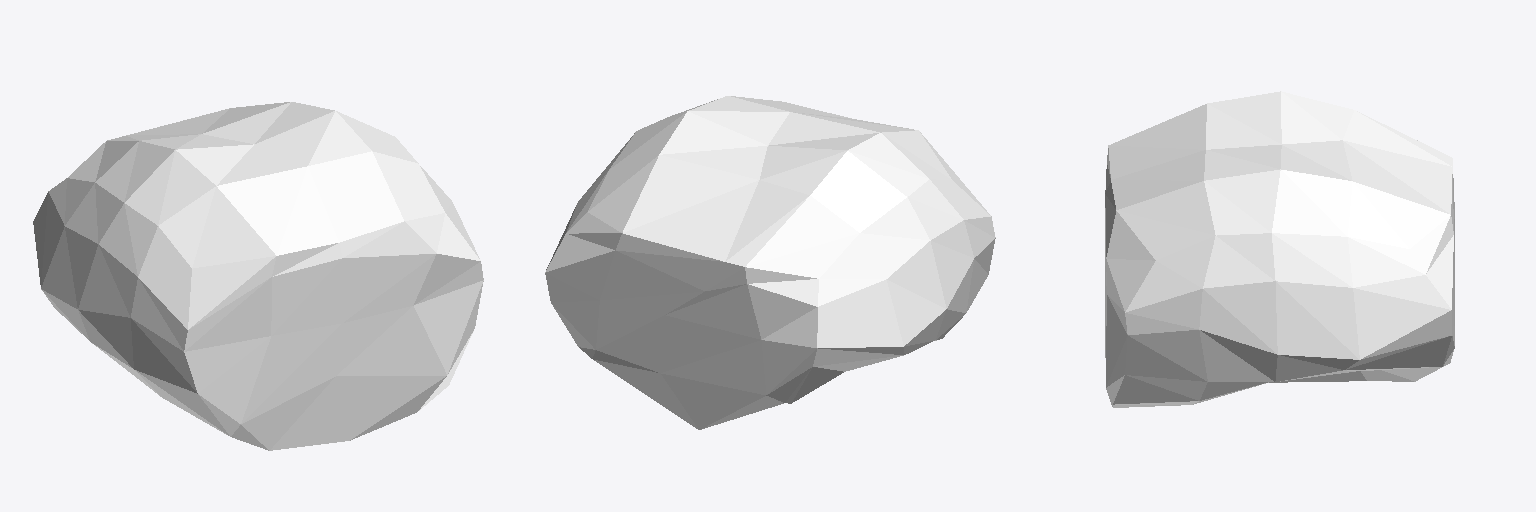
File: papermesh.obj
The picture shows the model from 3 angles: view 1: azimuth 30°, elevation 25°; view 2: azimuth 150°, elevation 25°; view 3: azimuth 270°, elevation 25°; orthographic projection.
Parts seen in each view (by area): view 1: grp1; view 2: grp1; view 3: grp1.
Part boxes in pixels (left/top/right/bottom): grp1: left=33, top=102, right=483, bottom=450; grp1: left=545, top=96, right=995, bottom=429; grp1: left=1105, top=91, right=1454, bottom=407.
Bounding box in the file's own units: 169 × 114 × 144.